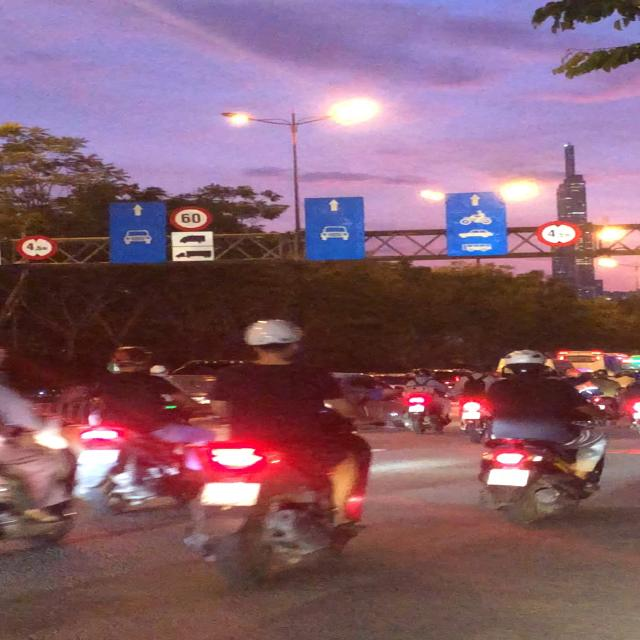Bien bao han che chieu cao: (532, 216, 584, 252), (11, 232, 63, 262)
Bien bao toc do toi da cho phep: (161, 202, 222, 232)
